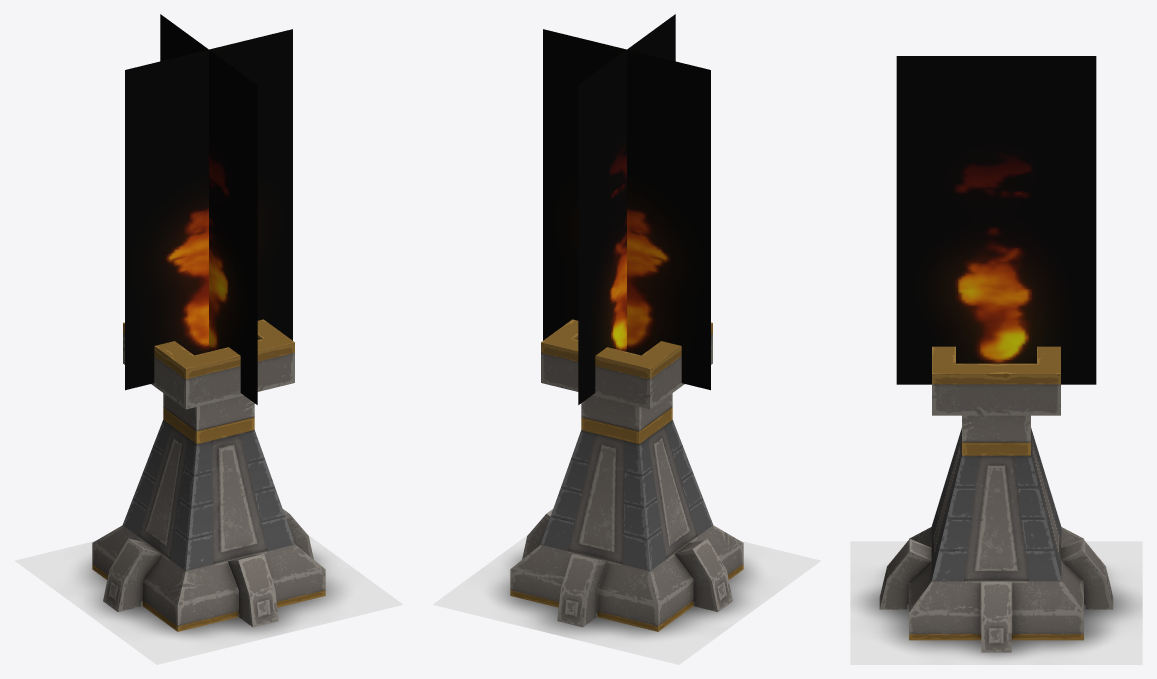
The model's file is EP1_FireStand01.fbx.
3 views of the same model, side by side, from view 1: azimuth 30°, elevation 25°; view 2: azimuth 150°, elevation 25°; view 3: azimuth 270°, elevation 25° (orthographic). The views are drawn at different scales.
Visible parts, largest first — view 1: FireStand, flame2, flame1, shadow1; view 2: FireStand, flame2, flame1, shadow1; view 3: flame1, FireStand, shadow1.
Part boxes in pixels (<box>): FireStand: <box>92,319,325,631</box>; flame2: <box>125,29,292,390</box>; flame1: <box>160,14,257,404</box>; shadow1: <box>15,534,403,664</box>; FireStand: <box>510,319,743,631</box>; flame2: <box>543,29,710,390</box>; flame1: <box>578,14,675,404</box>; shadow1: <box>432,534,820,664</box>; flame1: <box>896,56,1096,384</box>; FireStand: <box>879,346,1113,652</box>; shadow1: <box>850,541,1142,664</box>.
Bounding box in the file's own units: 1.34 × 2.77 × 1.34.
